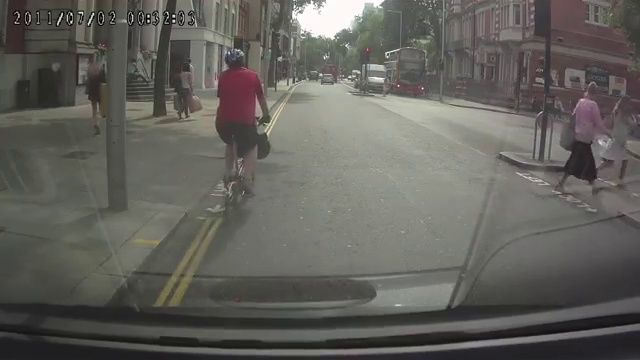cyclist_back: (212, 46, 274, 227)
